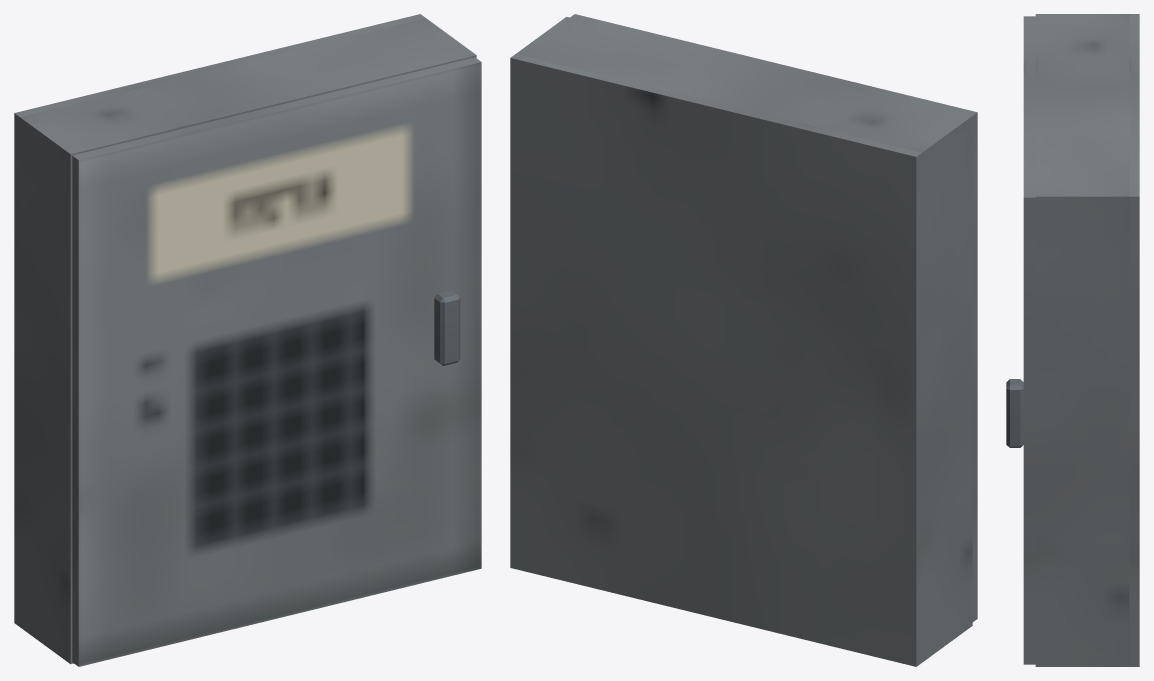
The model's file is key_cabinet.fbx.
3 views of the same model, side by side, from view 1: azimuth 30°, elevation 25°; view 2: azimuth 150°, elevation 25°; view 3: azimuth 270°, elevation 25° (orthographic). The views are drawn at different scales.
Visible parts, largest first — view 1: key_cabinet_door, key_cabinet; view 2: key_cabinet, key_cabinet_door; view 3: key_cabinet, key_cabinet_door.
Part boxes in pixels (x1,y1,x2,y2): key_cabinet_door: (72,57,481,666); key_cabinet: (14,14,476,664); key_cabinet: (510,16,972,666); key_cabinet_door: (570,14,977,621); key_cabinet: (1035,14,1139,666); key_cabinet_door: (1006,16,1035,664).
Bounding box in the file's own units: 0.5 × 0.6 × 0.154.
Materials: 1 (1 with a texture image).
